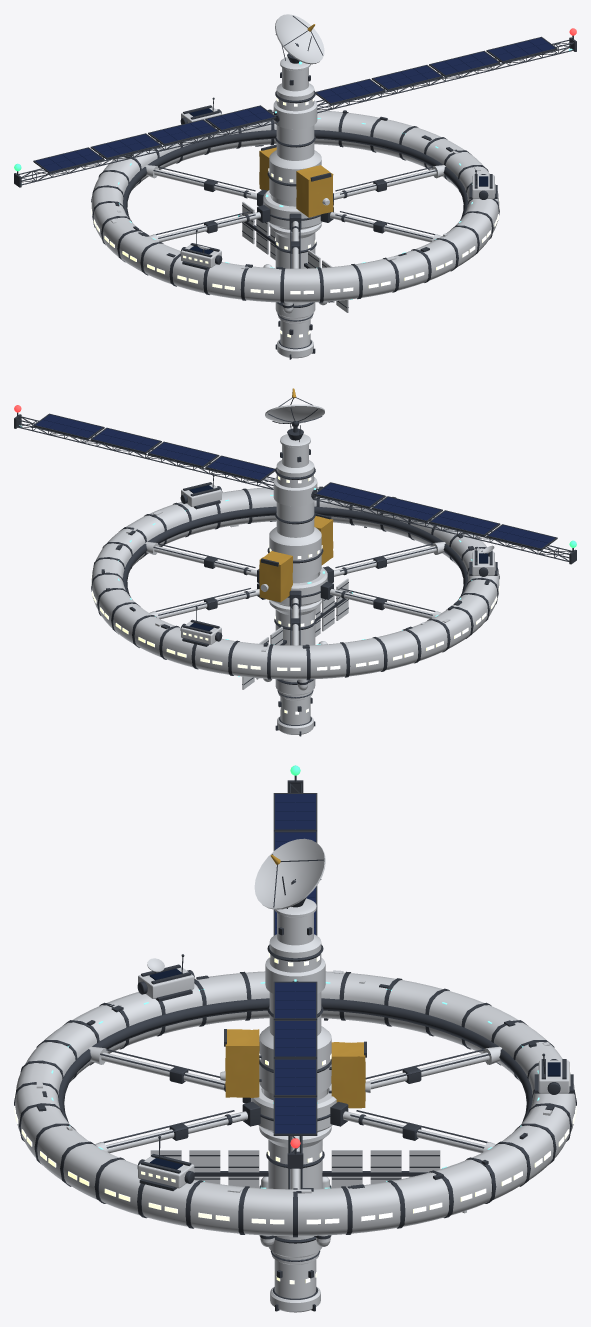
Rendered from station.glb.
The picture shows the model from 3 angles, top to bottom: view 1: azimuth 30°, elevation 25°; view 2: azimuth 150°, elevation 25°; view 3: azimuth 270°, elevation 25°; orthographic projection. The views are drawn at different scales.
Visible parts, largest first — view 1: RingHull, SpineHull, RingDark, SpineDark, SolarPanels, ServiceGold, RingWindows; view 2: RingHull, SpineHull, RingDark, SpineDark, SolarPanels, ServiceGold, RingWindows; view 3: RingHull, SpineHull, RingDark, SolarPanels, SpineDark, ServiceGold, RingWindows.
Boxes of the visible parts, x1=… form: RingHull: x1=91, y1=107, x2=499, y2=302; SpineHull: x1=242, y1=14, x2=348, y2=358; RingDark: x1=91, y1=97, x2=499, y2=303; SpineDark: x1=14, y1=16, x2=576, y2=359; SolarPanels: x1=35, y1=37, x2=555, y2=171; ServiceGold: x1=259, y1=24, x2=333, y2=217; RingWindows: x1=91, y1=180, x2=499, y2=294; RingHull: x1=91, y1=484, x2=499, y2=679; SpineHull: x1=242, y1=404, x2=348, y2=734; RingDark: x1=91, y1=475, x2=499, y2=680; SpineDark: x1=14, y1=397, x2=576, y2=736; SolarPanels: x1=35, y1=414, x2=555, y2=548; ServiceGold: x1=259, y1=388, x2=333, y2=602; RingWindows: x1=91, y1=556, x2=499, y2=670; RingHull: x1=15, y1=958, x2=575, y2=1236; SpineHull: x1=150, y1=838, x2=440, y2=1312; RingDark: x1=14, y1=954, x2=576, y2=1237; SolarPanels: x1=275, y1=794, x2=315, y2=1133; SpineDark: x1=151, y1=775, x2=439, y2=1311; ServiceGold: x1=225, y1=854, x2=365, y2=1108; RingWindows: x1=14, y1=1067, x2=576, y2=1224.
Bounding box in the file's own units: 3.45 × 1.94 × 2.18.
